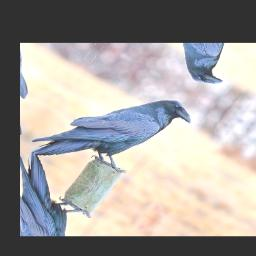Crow: (25, 55, 201, 205)
